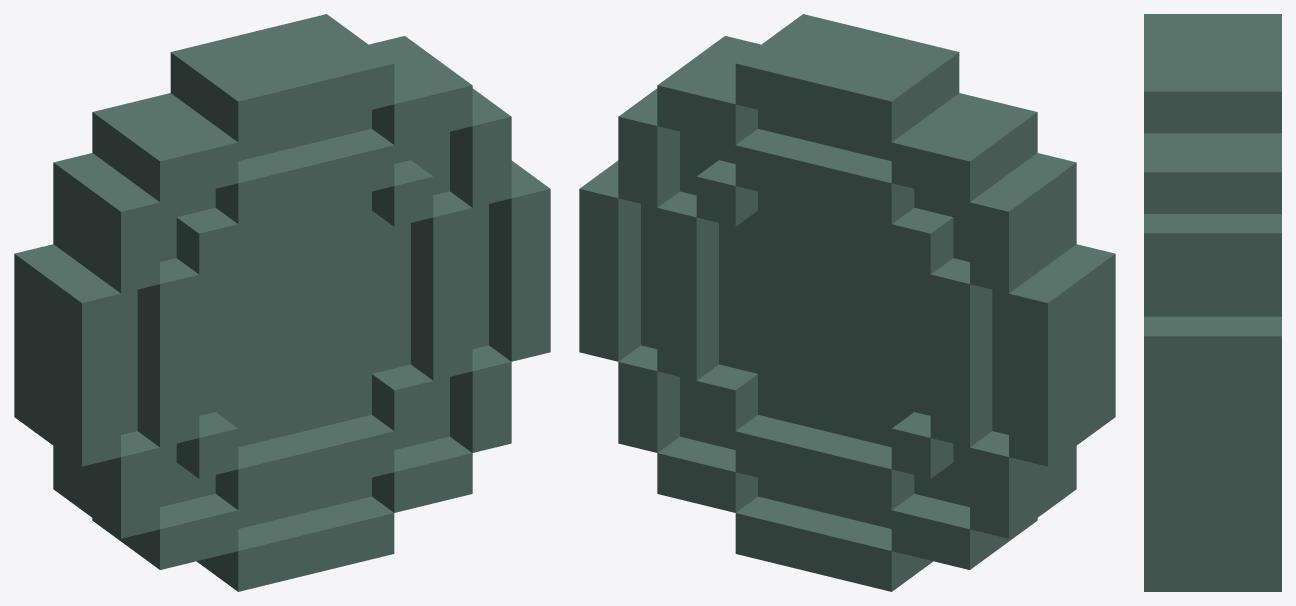
File: Coin_Big_2.obj
3 renders of one model, left to right at view 1: azimuth 30°, elevation 25°; view 2: azimuth 150°, elevation 25°; view 3: azimuth 270°, elevation 25°, orthographic. The views are drawn at different scales.
Size of the model in its own units: 0.3 by 0.3 by 0.075.
